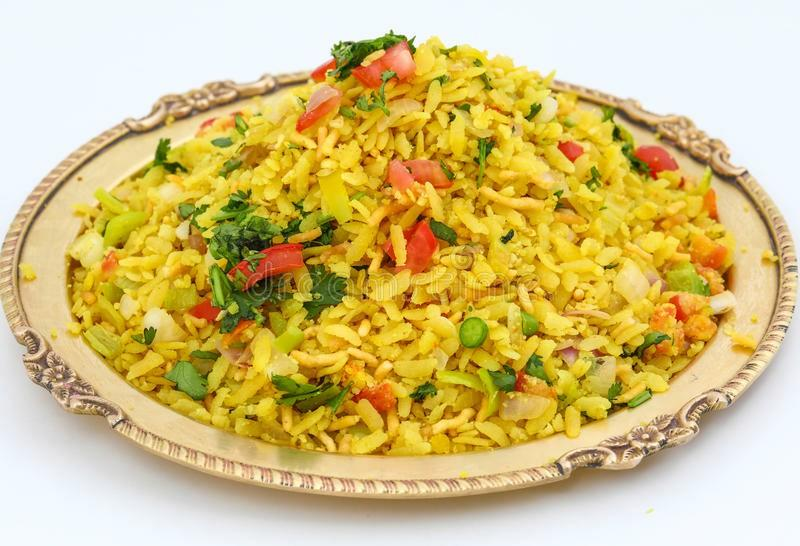Poha: (76, 32, 734, 454)
